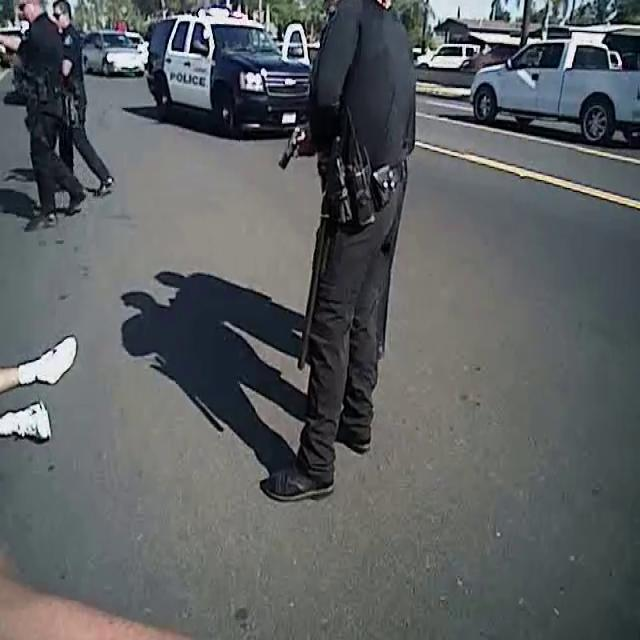gun: (312, 152, 358, 236), (269, 117, 317, 175)
